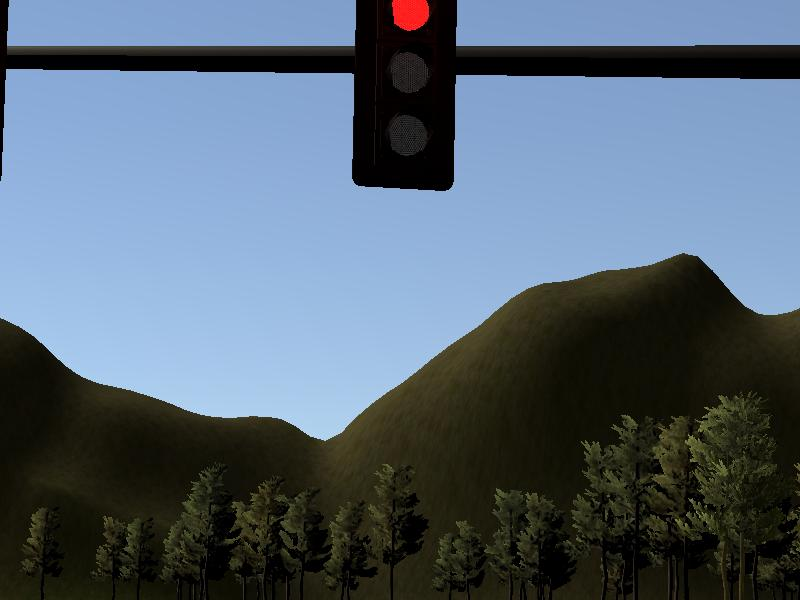red: (358, 1, 451, 190)
